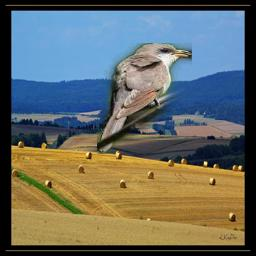Cuckoo: (97, 43, 192, 154)
